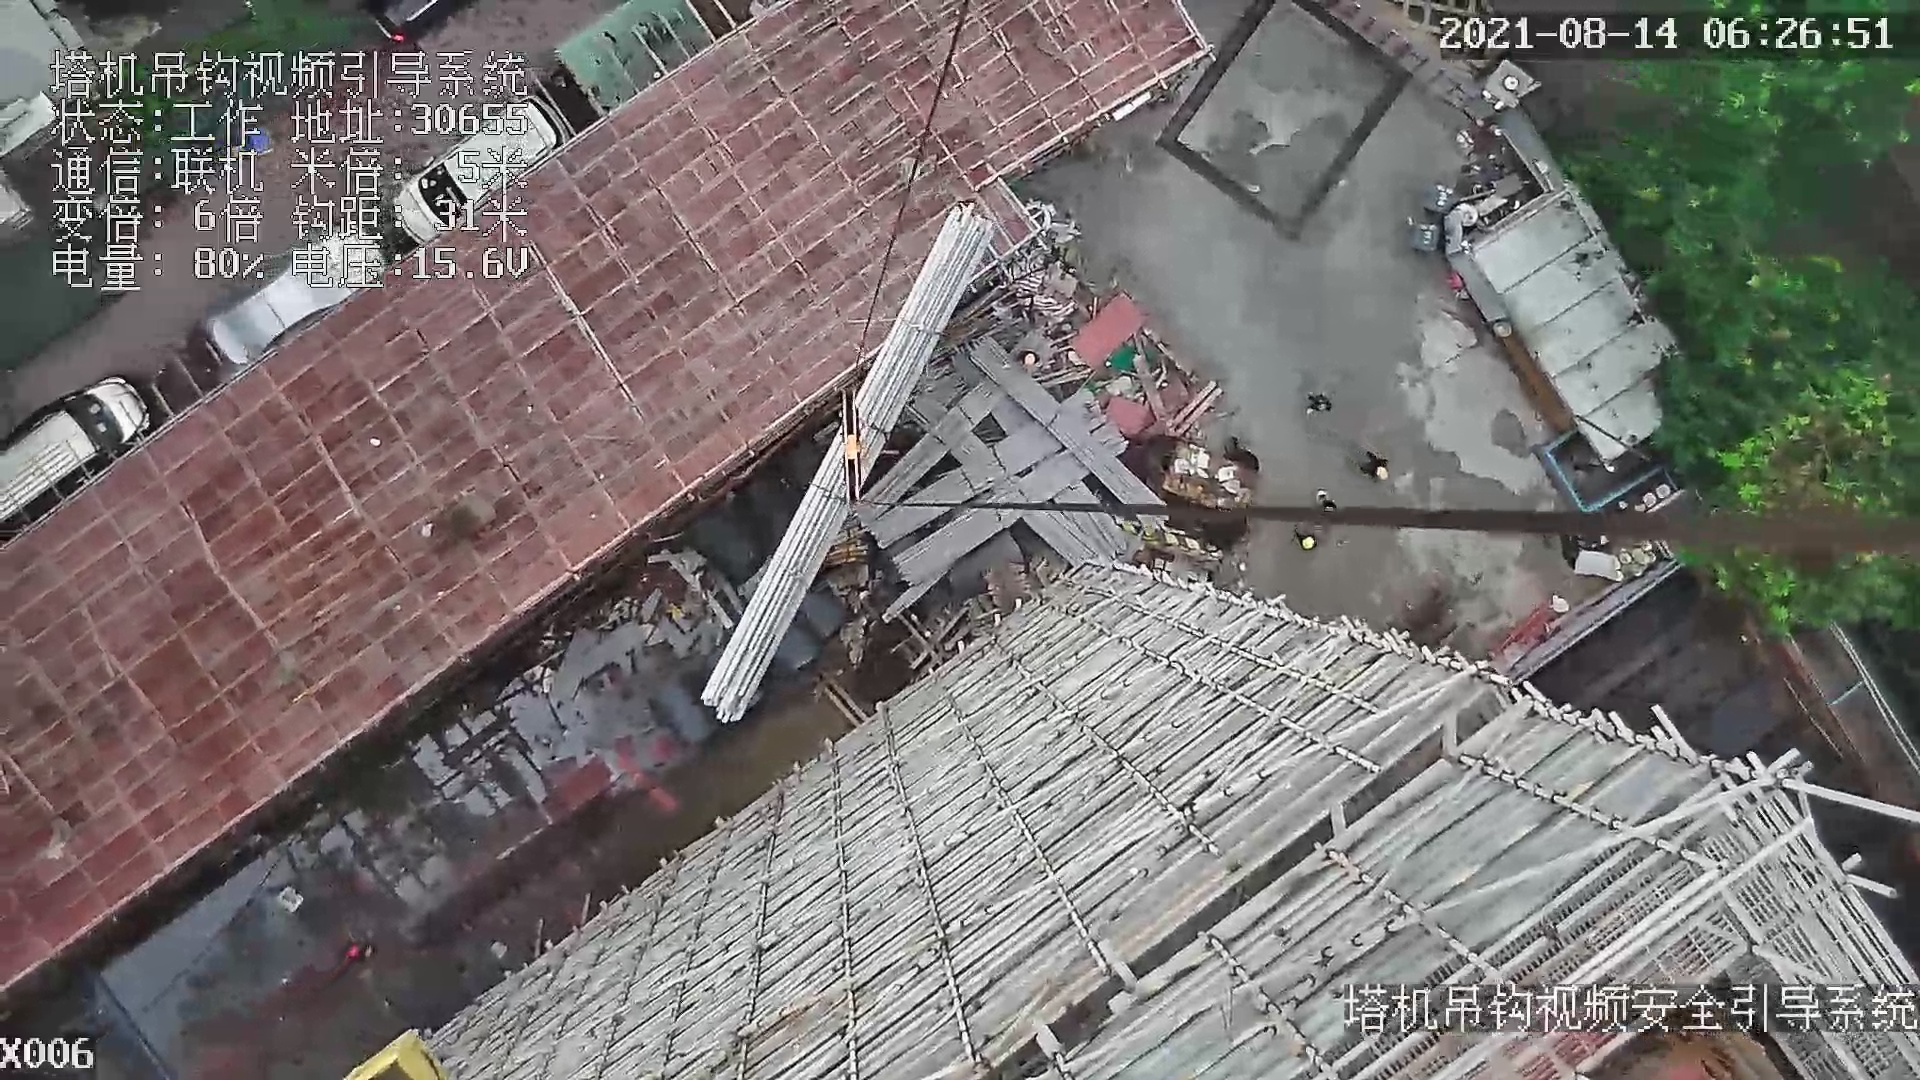helmet: (1298, 536, 1315, 550), (1376, 464, 1387, 481)
hook: (847, 383, 870, 509)
person: (1358, 449, 1391, 487), (1300, 383, 1333, 418), (1292, 528, 1317, 547)
